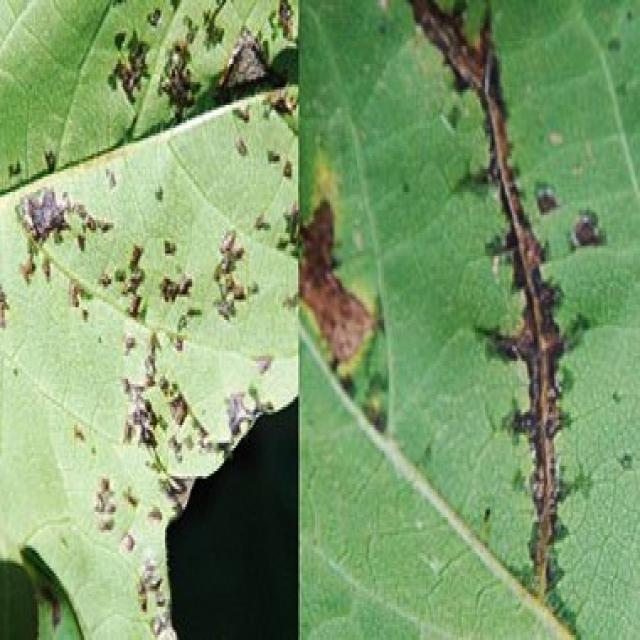Bacterial Blight: (406, 5, 609, 610), (58, 11, 292, 398)
